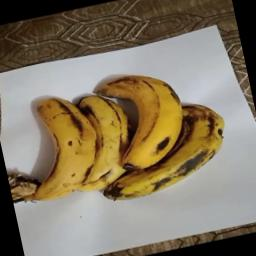Banana Unripe: (2, 86, 112, 211), (95, 59, 197, 178), (68, 72, 142, 192)
